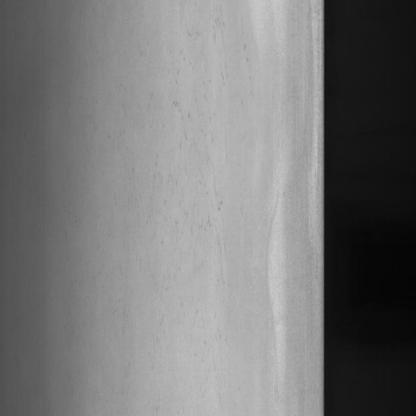silk_spot: (151, 9, 244, 306)
